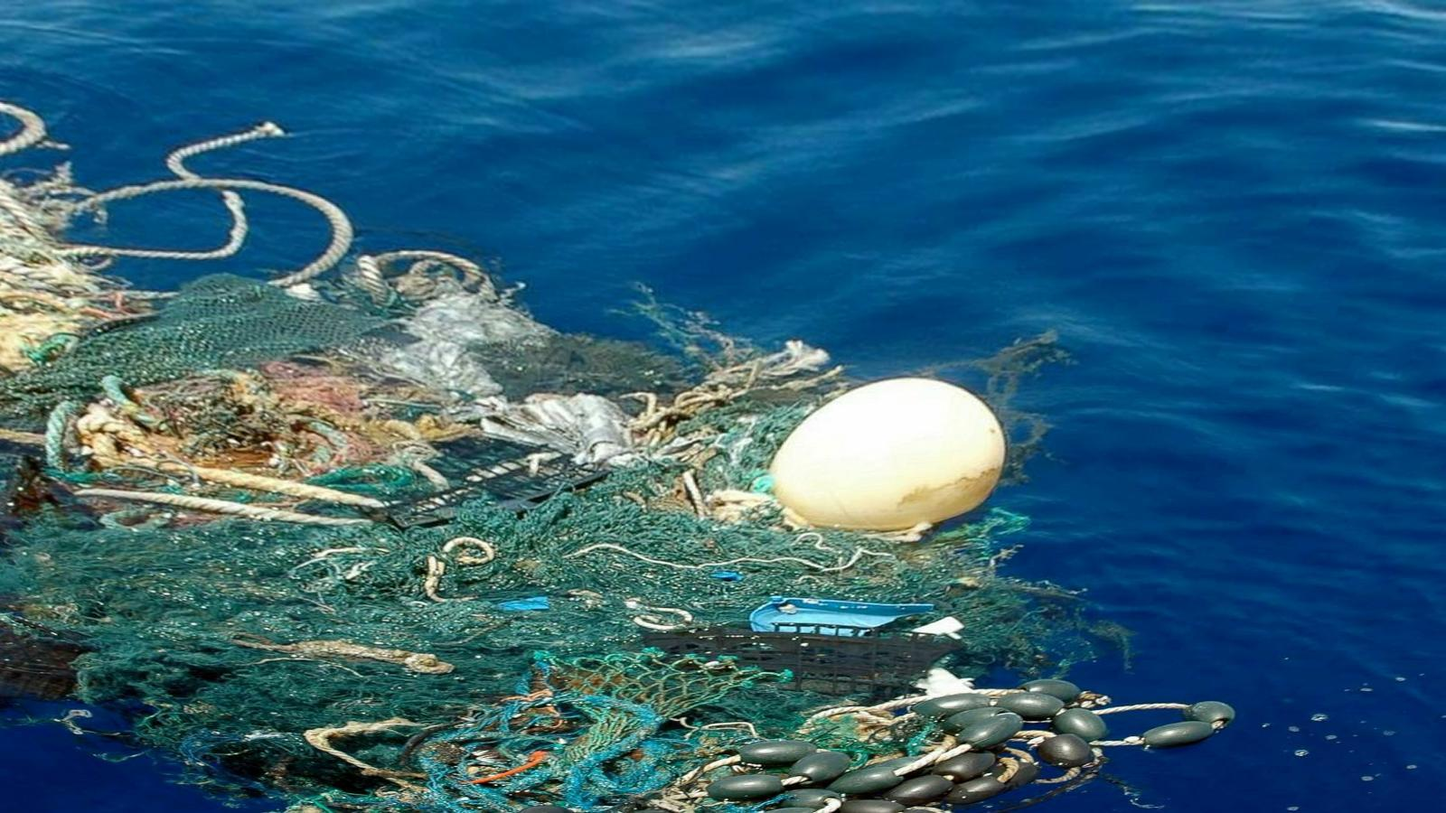Plastic Pollution: (243, 340, 831, 803)
